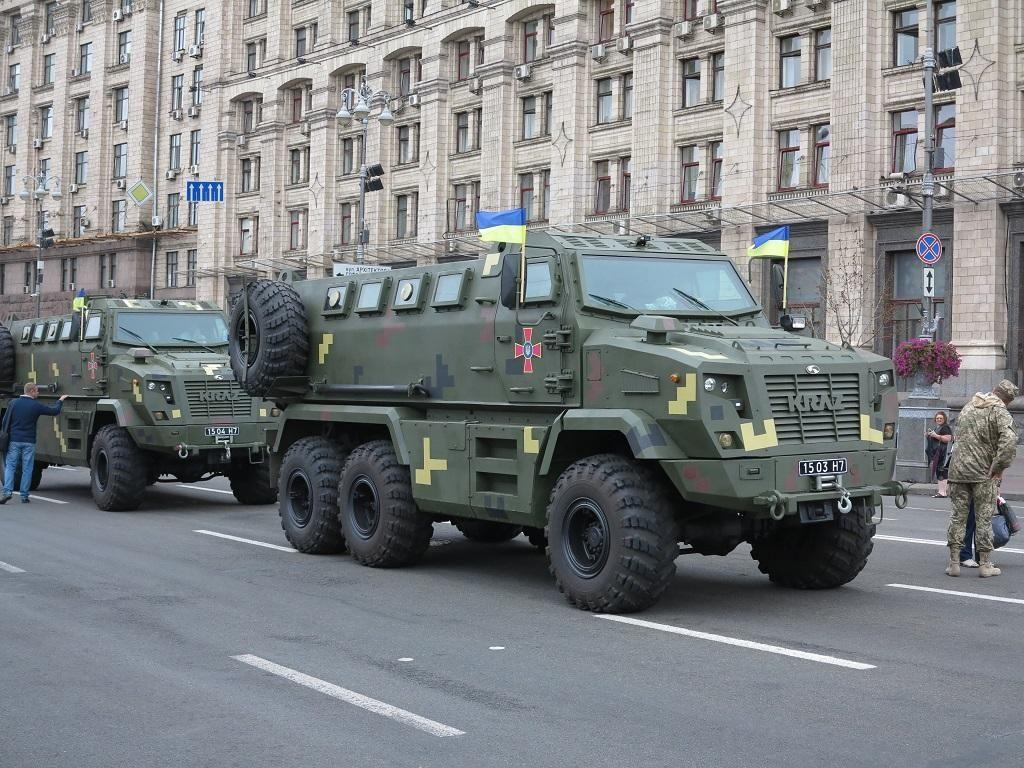ambulance: (247, 231, 895, 600), (5, 299, 279, 504)
